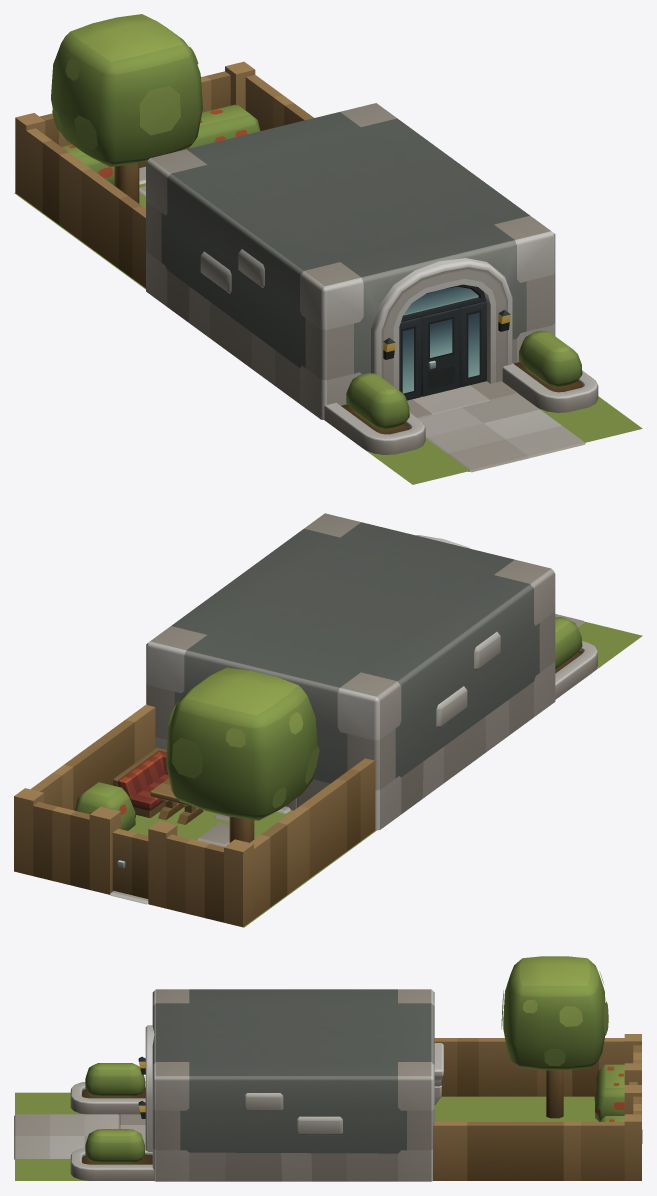
Rendered from appartment_type3_x3_ground_grey.fbx.
The picture shows the model from 3 angles, top to bottom: view 1: azimuth 30°, elevation 25°; view 2: azimuth 150°, elevation 25°; view 3: azimuth 270°, elevation 25°; orthographic projection. The views are drawn at different scales.
Parts seen in each view (by area): view 1: appartment_type3_x3_ground_grey, door_front_appartment_type3; view 2: appartment_type3_x3_ground_grey, door_garden_appartment_type3; view 3: appartment_type3_x3_ground_grey.
Part boxes in pixels (bbox=[...]): appartment_type3_x3_ground_grey: bbox=[14, 14, 642, 484]; door_front_appartment_type3: bbox=[421, 308, 459, 396]; appartment_type3_x3_ground_grey: bbox=[14, 513, 642, 927]; door_garden_appartment_type3: bbox=[112, 828, 148, 898]; appartment_type3_x3_ground_grey: bbox=[14, 956, 642, 1181].
Bounding box in the file's own units: 628 × 468 × 1806.
